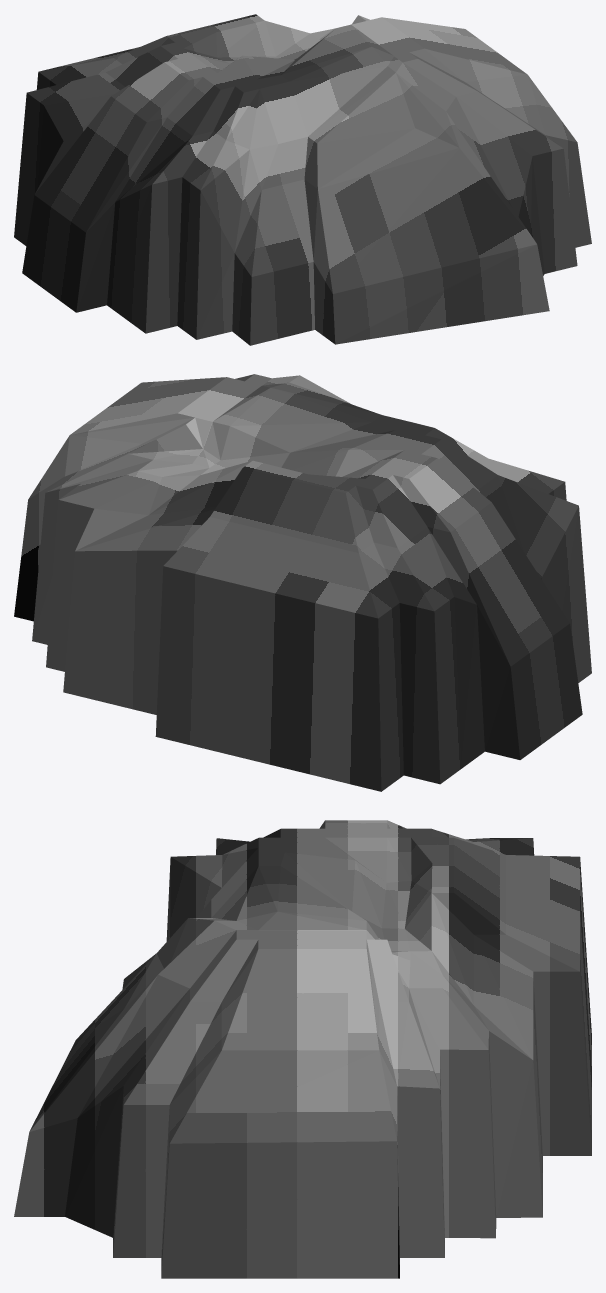
The model's file is rock_331x08.gltf.
3 views of the same model, one above another, from view 1: azimuth 30°, elevation 25°; view 2: azimuth 150°, elevation 25°; view 3: azimuth 270°, elevation 25° (orthographic). The views are drawn at different scales.
Visible parts, largest first — view 1: Rock_331x8; view 2: Rock_331x8; view 3: Rock_331x8.
Boxes of the visible parts, box(x1,y1,x2,y2) form: Rock_331x8: box(14, 14, 591, 345); Rock_331x8: box(14, 374, 591, 791); Rock_331x8: box(14, 820, 591, 1278).
Bounding box in the file's own units: 0.8551 × 0.3678 × 0.7414.
1 material, 1 textured.
